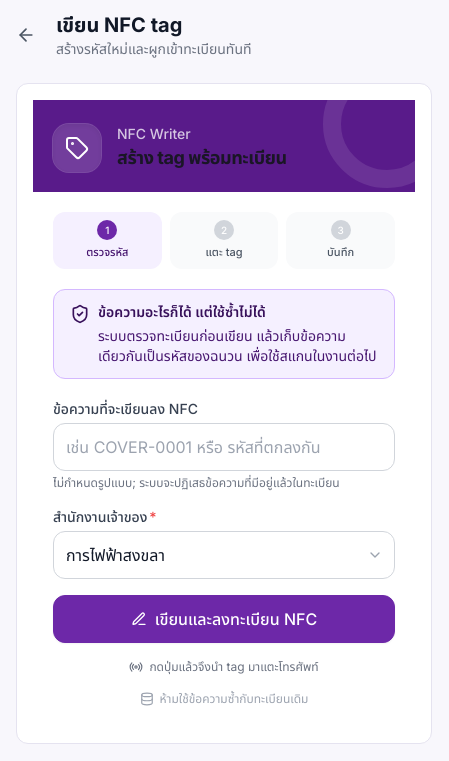
Test: WriteNfcPage — write and register (Flow 3) › checks uniqueness, writes the tag, then registers with matching assetCode and nfcId
This screenshot has width=449, height=761.
Type "COVER-0001" into the field labelled "ข้อความที่จะเขียนลง NFC" at point(224, 446), box [53,422,395,470]
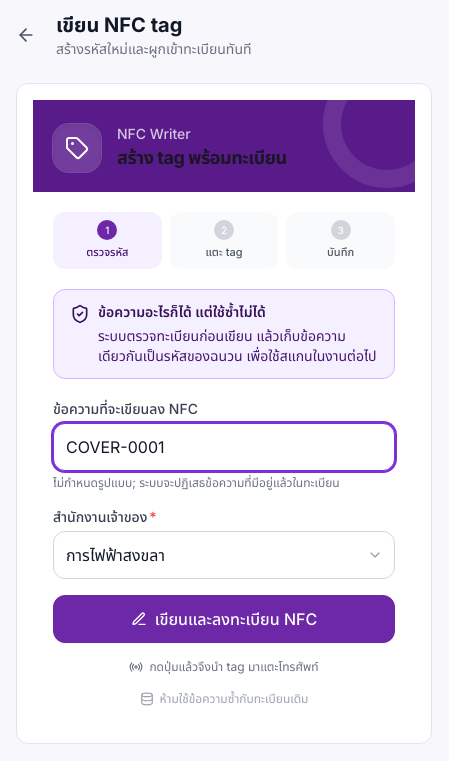
Select "การไฟฟ้าสงขลา" in the dropdown labelled "สำนักงานเจ้าของ*" at point(224, 554), box [53,530,395,578]
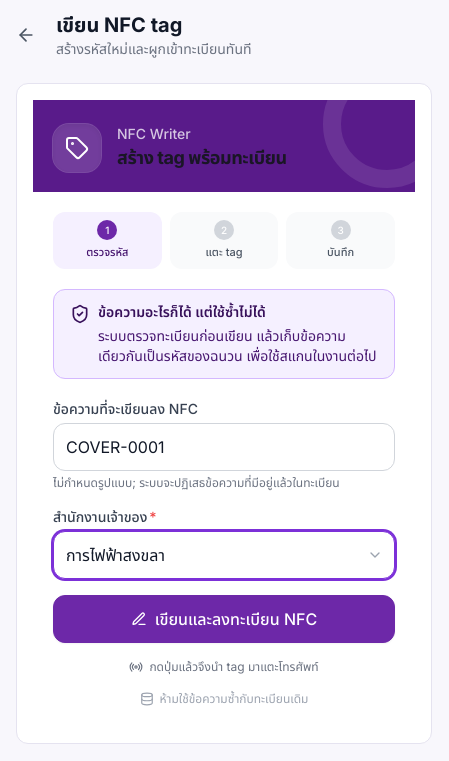
Click the button "เขียนและลงทะเบียน NFC" at point(224, 618), box [53,594,395,642]
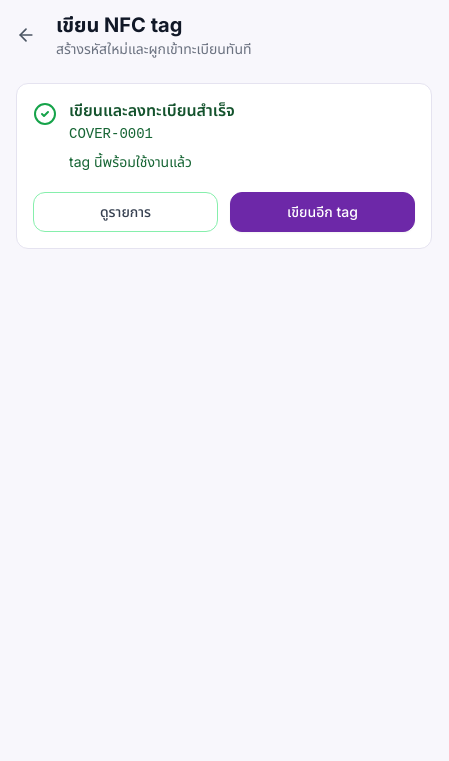
expect the heading "เขียนและลงทะเบียนสำเร็จ" is shown: met, box [69,100,235,120]
